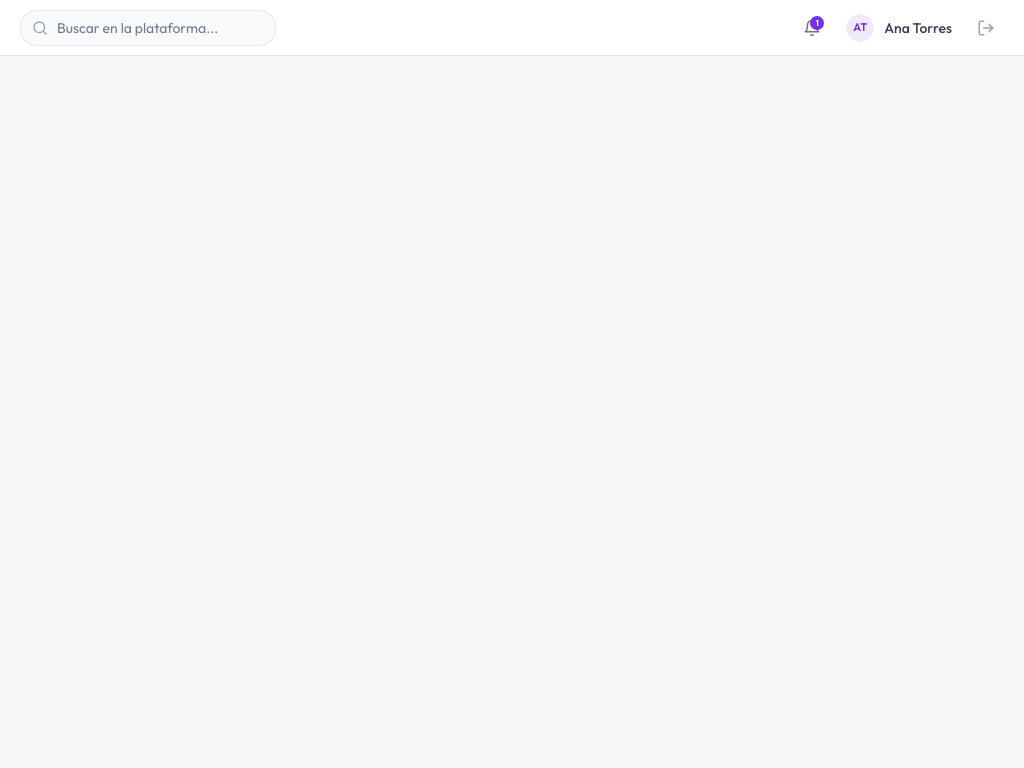
it: AppLayout / AppSidebar en español › el texto de la notificacion sale del catalogo segun el tipo de evento
The image size is (1024, 768).
Click the button named "Notificaciones".
click(812, 28)  # box top-left (794, 10), bottom-right (830, 46)
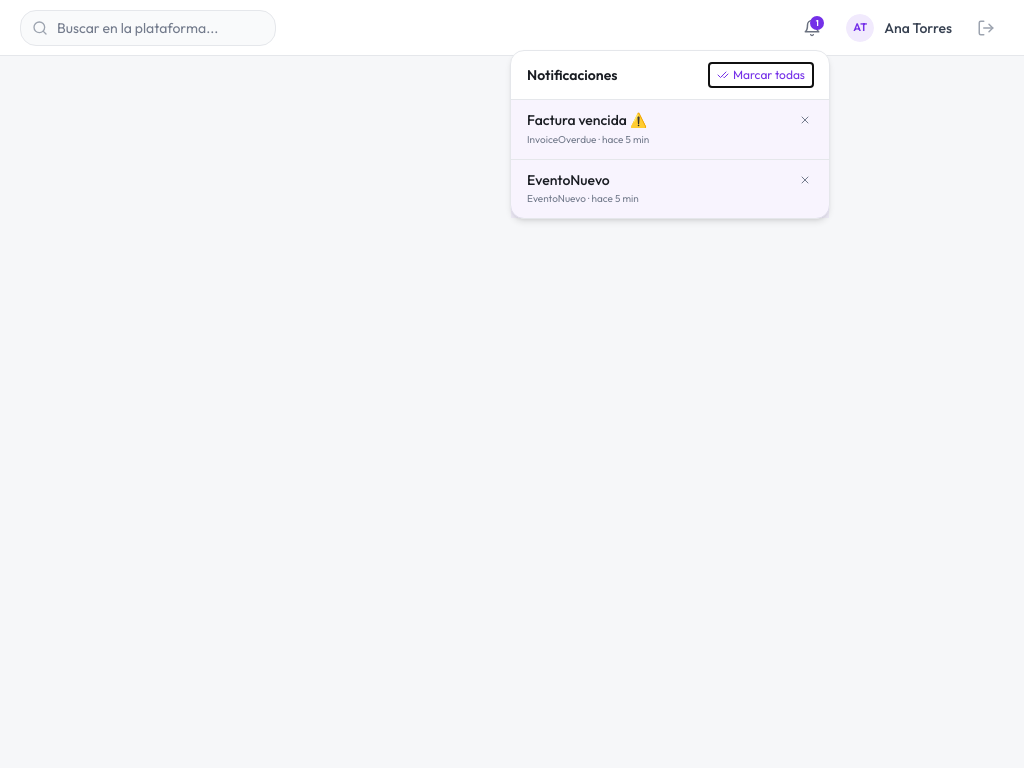
Now the text "Factura vencida ⚠️" is shown, box top-left (527, 111), bottom-right (647, 129)
Now the text "EventoNuevo" is shown, box top-left (527, 170), bottom-right (610, 188)
